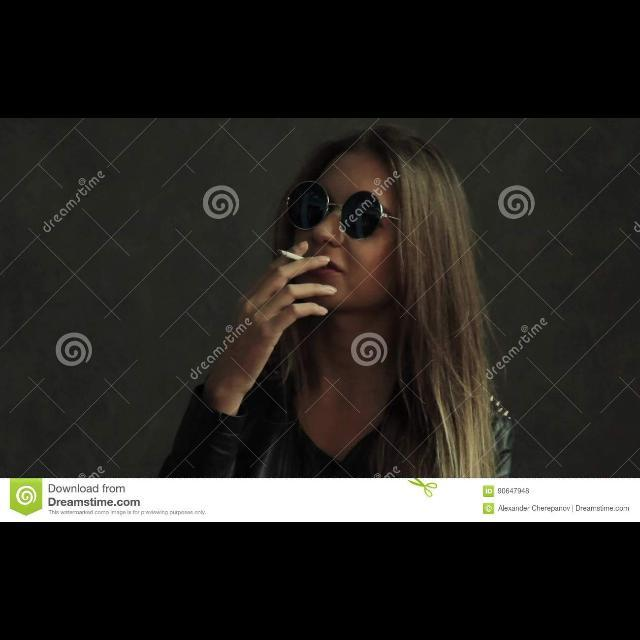rokok: (276, 246, 304, 264)
